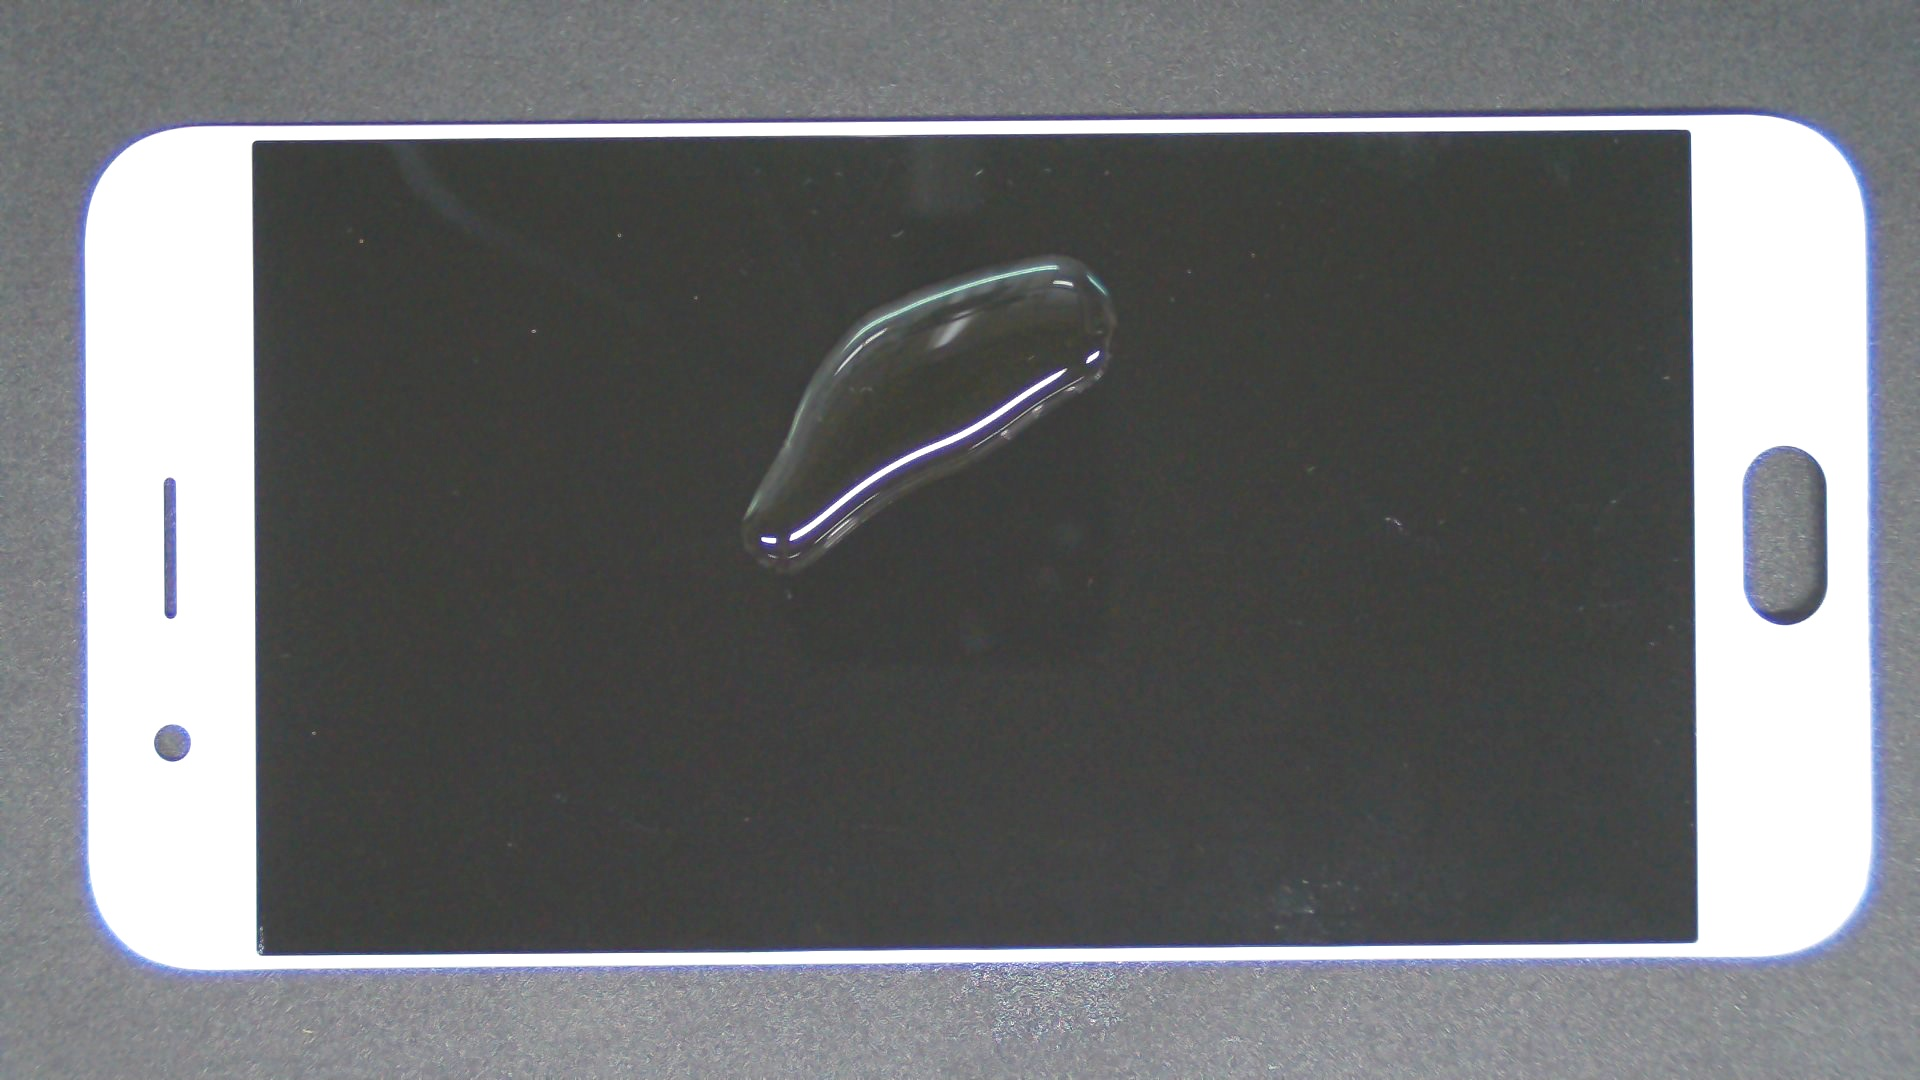oil: (526, 127, 1577, 381)
